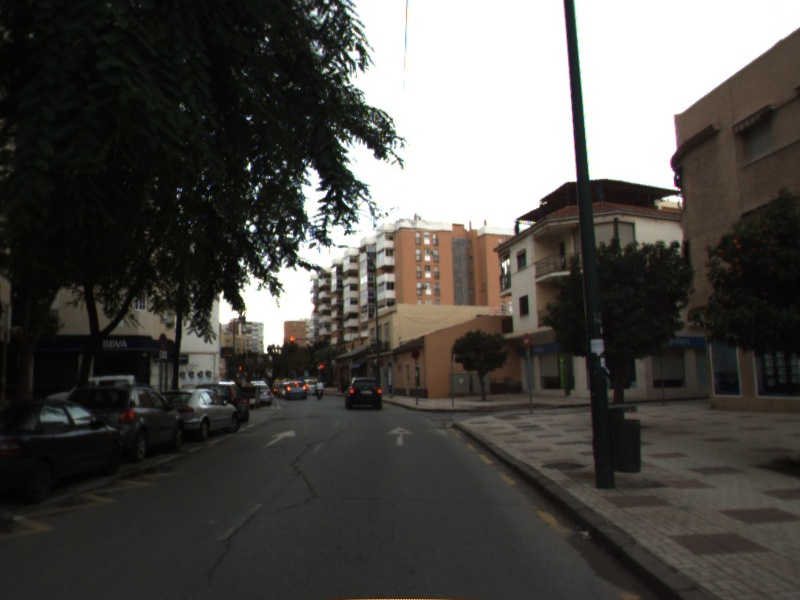STRAIGHT: (385, 425, 416, 447), (264, 428, 297, 448)
